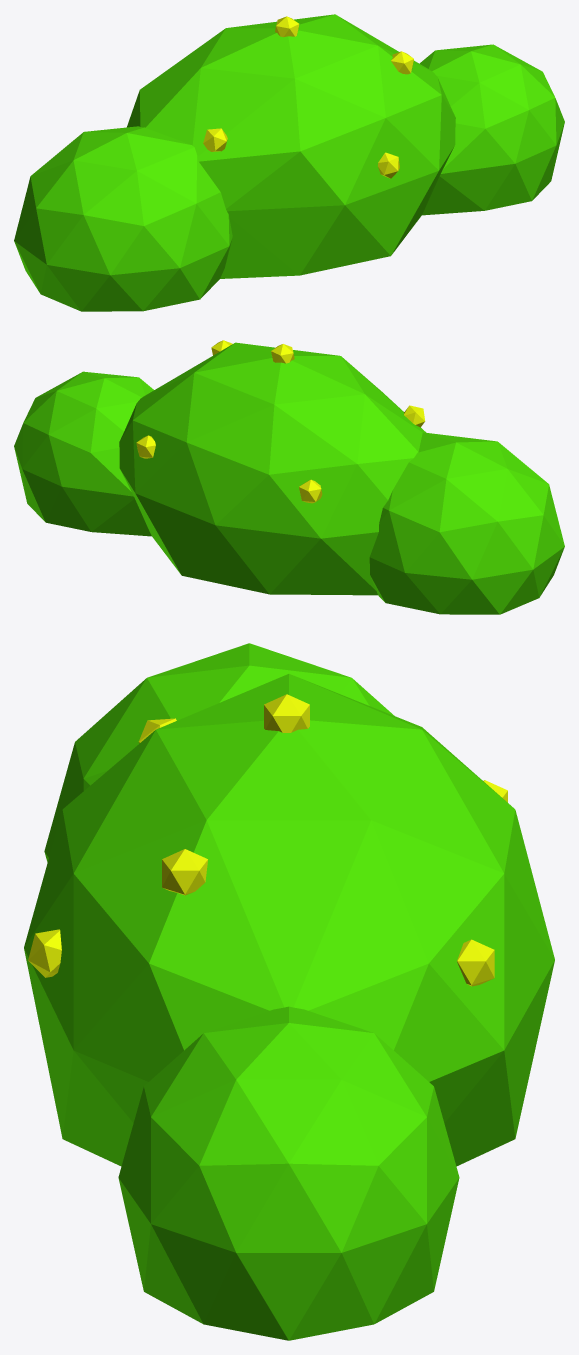
The model's file is bush3.fbx.
The picture shows the model from 3 angles, top to bottom: view 1: azimuth 30°, elevation 25°; view 2: azimuth 150°, elevation 25°; view 3: azimuth 270°, elevation 25°; orthographic projection. The views are drawn at different scales.
Parts seen in each view (by area): view 1: Icosphere.047; view 2: Icosphere.047; view 3: Icosphere.047.
Boxes of the visible parts, x1=… form: Icosphere.047: x1=14, y1=14, x2=564, y2=311; Icosphere.047: x1=14, y1=340, x2=564, y2=614; Icosphere.047: x1=24, y1=643, x2=554, y2=1340.
Bounding box in the file's own units: 444 × 167 × 200.
